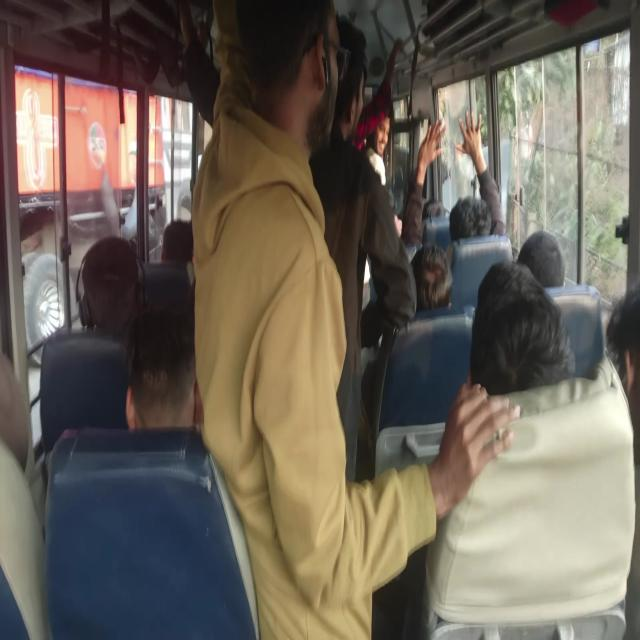person: (484, 256, 615, 452), (127, 291, 212, 441), (244, 1, 341, 127), (0, 337, 51, 514), (86, 228, 140, 321), (604, 288, 640, 398), (150, 208, 200, 275), (337, 29, 366, 144), (448, 182, 486, 239), (364, 70, 388, 158), (526, 228, 564, 280), (414, 239, 446, 299), (428, 190, 452, 213)
